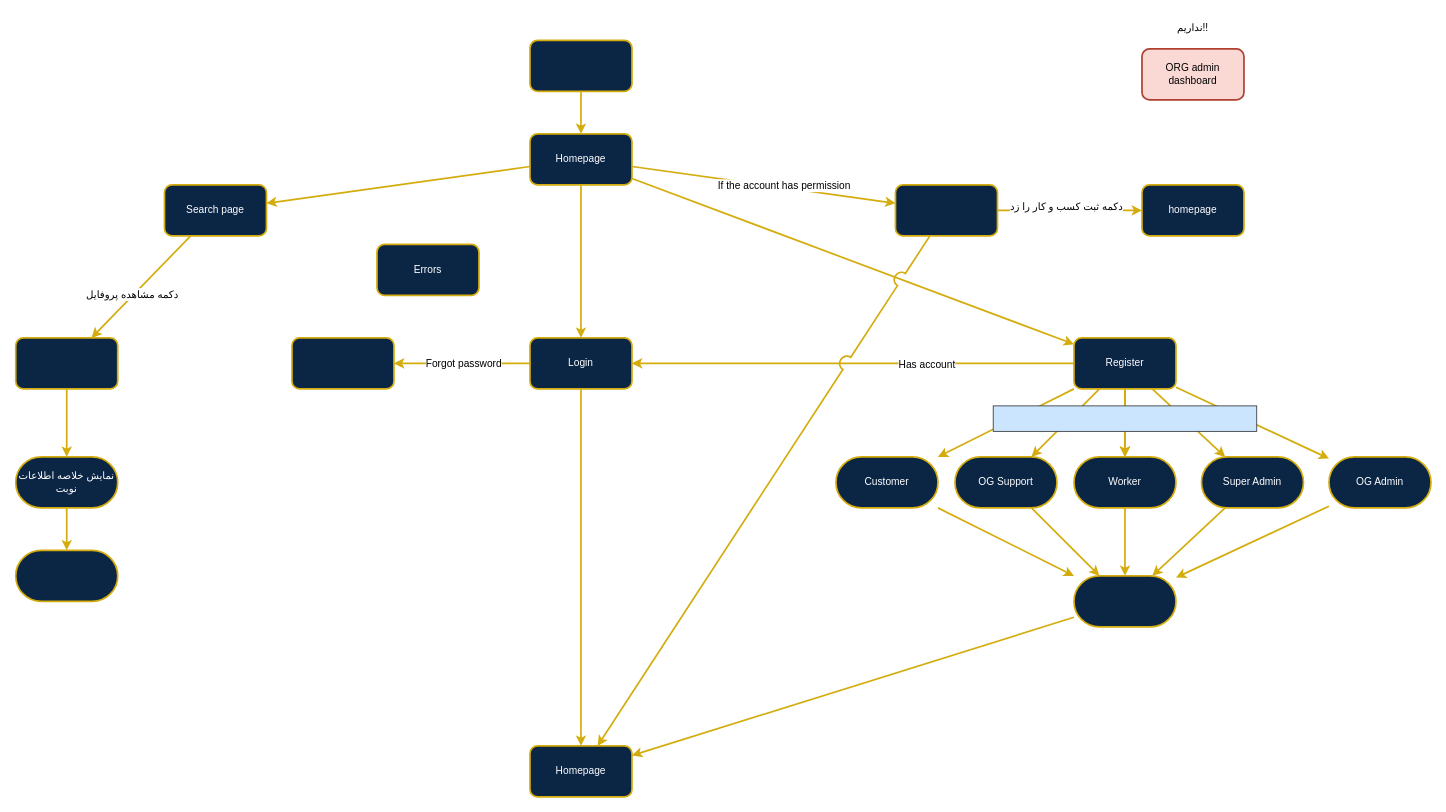
Some shapes in this 1446 by 812 pixel diagram are drawn without their labels. Here are the shapes that lost their labels. From the top down, the centre of each, then its label:
At point (580, 65): "Website".
At point (946, 210): "ORG Register page".
At point (66, 363): "ORG Profile for customers".
At point (342, 363): "Password restore (forgot password)".
At point (1124, 418): "Role-Based Redirect".
At point (66, 575): "نمایش کد نوبت".
At point (1124, 601): "ثبتنام با موفقیت انجام شد".
